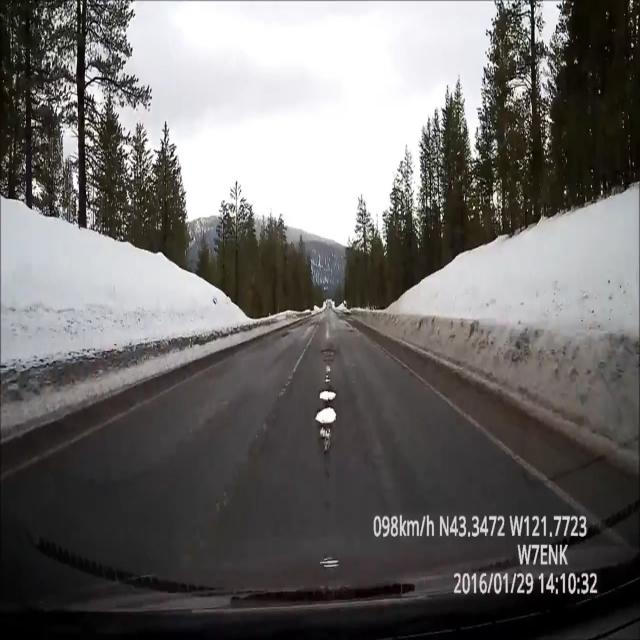Pothole: (315, 381, 341, 463), (319, 341, 342, 373)
